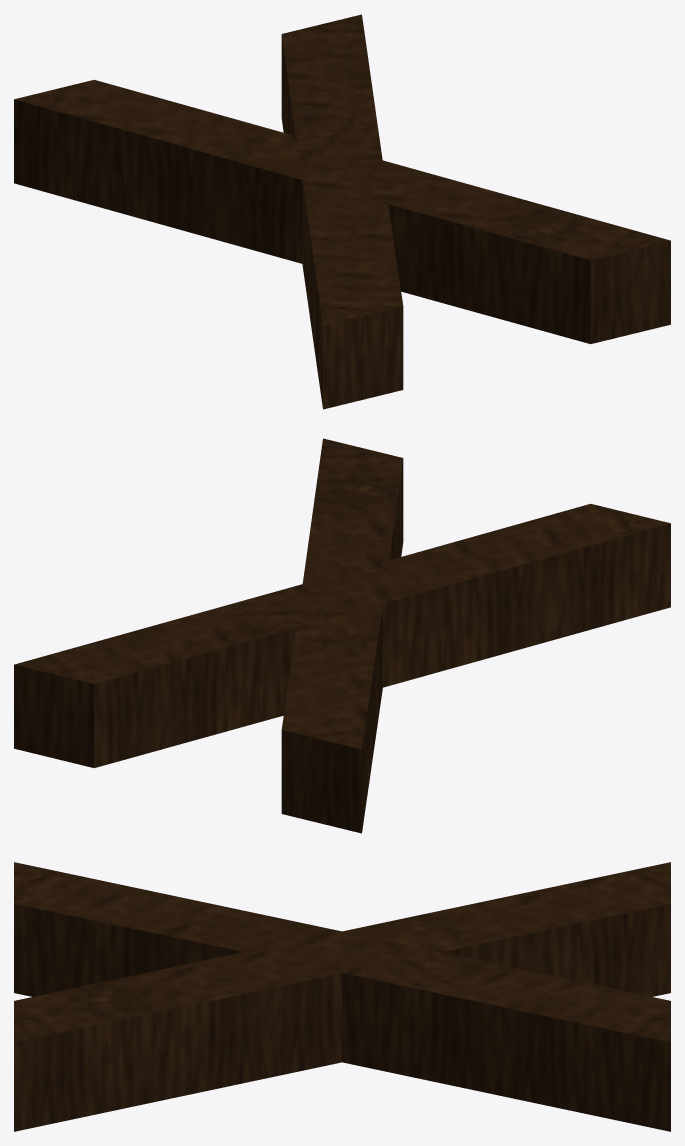
File: LetterX.obj
The picture shows the model from 3 angles, top to bottom: view 1: azimuth 30°, elevation 25°; view 2: azimuth 150°, elevation 25°; view 3: azimuth 270°, elevation 25°; orthographic projection. The views are drawn at different scales.
Parts seen in each view (by area): view 1: LetterX; view 2: LetterX; view 3: LetterX.
Boxes of the visible parts, x1,y1,x2,y2 form: LetterX: (14,14,670,409); LetterX: (14,438,670,833); LetterX: (14,862,670,1131).
Size of the model in its own units: 0.6501 by 0.15 by 1.
